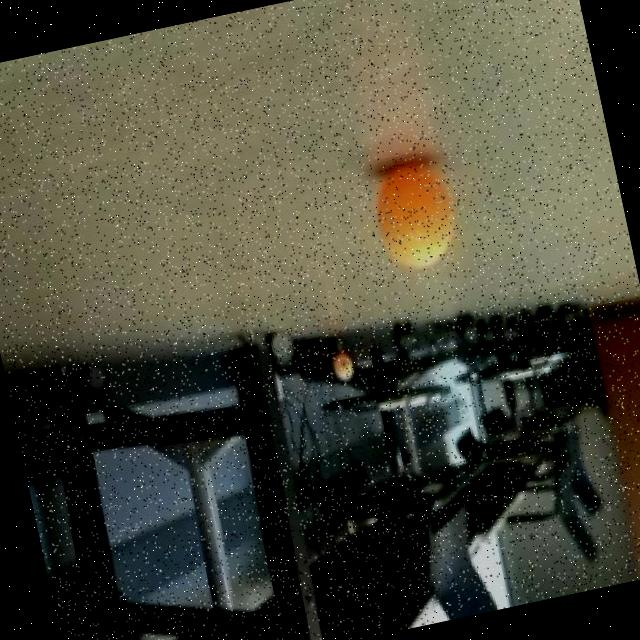ping-pong-ball: (362, 150, 467, 278), (331, 344, 356, 383)
